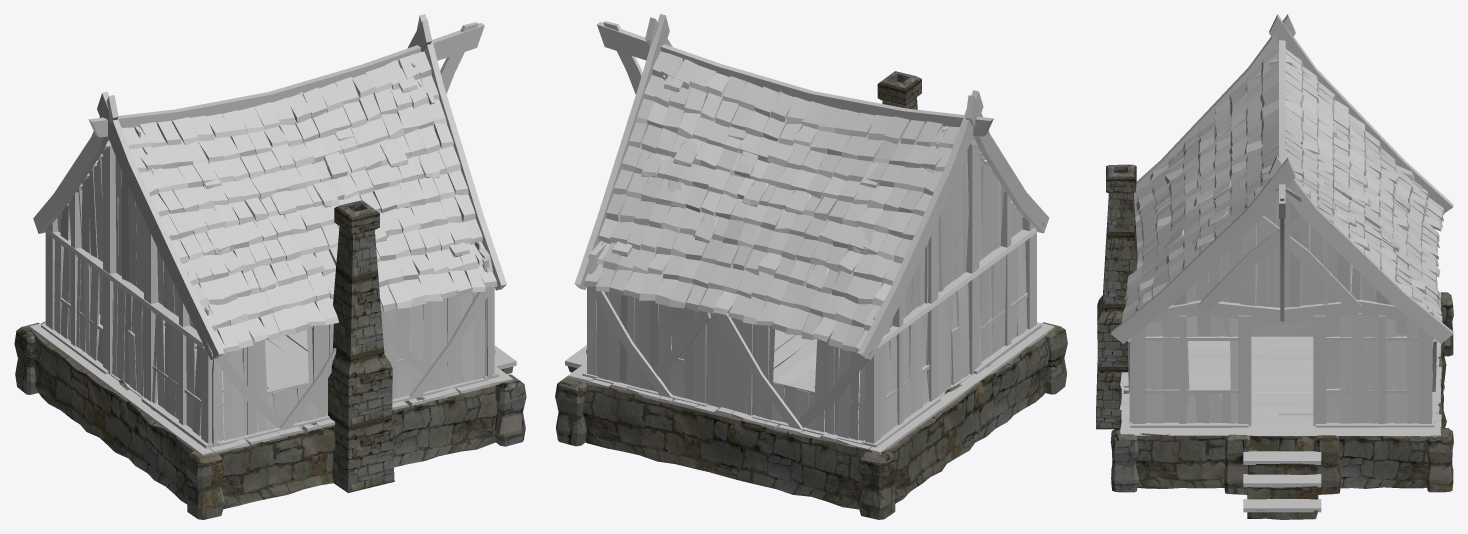
File: midpoly_town_house_01.obj
3 views of the same model, side by side, from view 1: azimuth 30°, elevation 25°; view 2: azimuth 150°, elevation 25°; view 3: azimuth 270°, elevation 25° (orthographic). The views are drawn at different scales.
Parts seen in each view (by area): view 1: Cube.016_Cube.032, Cube.011_Cube.028, construction.004_Cube.030, Cube.015_Cube.026, Cube.013_Cube.036, construction.001_Cube.035, Cube.010_Cube.031, Cube.014_Cube.029, construction.000_Cube.027; view 2: Cube.016_Cube.032, Cube.011_Cube.028, construction.004_Cube.030, Cube.013_Cube.036, Cube.015_Cube.026, construction.001_Cube.035, Cube.010_Cube.031, Cube.014_Cube.029, construction.000_Cube.027; view 3: Cube.016_Cube.032, Cube.011_Cube.028, construction.004_Cube.030, Cube.015_Cube.026, construction.001_Cube.035, Cube.013_Cube.036, Cube.012_Cube.034, Cube.014_Cube.029.
Boxes of the visible parts, x1=… form: Cube.016_Cube.032: x1=36, y1=51, x2=497, y2=356; Cube.011_Cube.028: x1=14, y1=200, x2=526, y2=519; construction.004_Cube.030: x1=54, y1=62, x2=492, y2=446; Cube.015_Cube.026: x1=33, y1=14, x2=506, y2=359; Cube.013_Cube.036: x1=41, y1=145, x2=499, y2=448; construction.001_Cube.035: x1=29, y1=312, x2=513, y2=455; Cube.010_Cube.031: x1=214, y1=287, x2=490, y2=430; Cube.014_Cube.029: x1=203, y1=68, x2=469, y2=291; construction.000_Cube.027: x1=45, y1=228, x2=425, y2=348; Cube.016_Cube.032: x1=584, y1=51, x2=1045, y2=356; Cube.011_Cube.028: x1=555, y1=71, x2=1067, y2=519; construction.004_Cube.030: x1=596, y1=75, x2=1027, y2=440; Cube.013_Cube.036: x1=582, y1=144, x2=1041, y2=447; Cube.015_Cube.026: x1=574, y1=14, x2=1049, y2=359; construction.001_Cube.035: x1=566, y1=322, x2=1054, y2=454; Cube.010_Cube.031: x1=591, y1=286, x2=868, y2=429; Cube.014_Cube.029: x1=611, y1=67, x2=878, y2=290; construction.000_Cube.027: x1=656, y1=228, x2=1036, y2=348; Cube.016_Cube.032: x1=1122, y1=48, x2=1444, y2=322; Cube.011_Cube.028: x1=1096, y1=164, x2=1453, y2=519; construction.004_Cube.030: x1=1129, y1=59, x2=1432, y2=423; Cube.015_Cube.026: x1=1111, y1=14, x2=1453, y2=343; construction.001_Cube.035: x1=1119, y1=292, x2=1441, y2=436; Cube.013_Cube.036: x1=1129, y1=86, x2=1435, y2=427; Cube.012_Cube.034: x1=1243, y1=320, x2=1321, y2=512; Cube.014_Cube.029: x1=1142, y1=118, x2=1422, y2=302.
Bounding box in the file's own units: 14 × 12.83 × 11.6.
